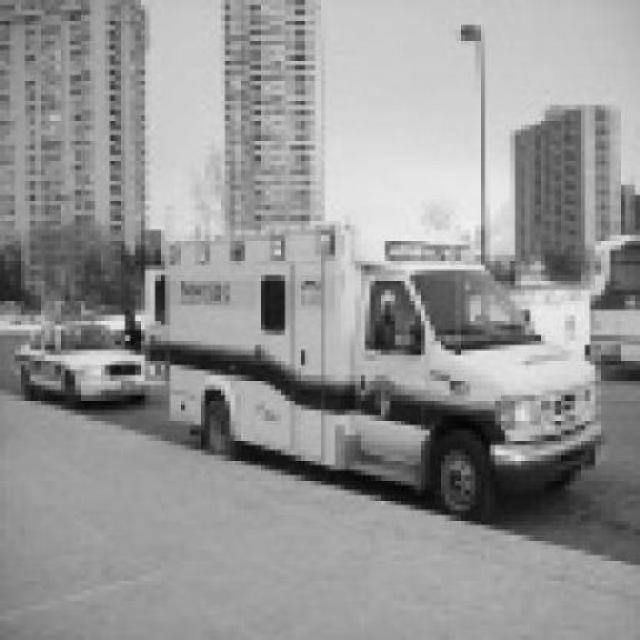Ambulance: (143, 221, 603, 522)
Sedan: (12, 325, 161, 411)
